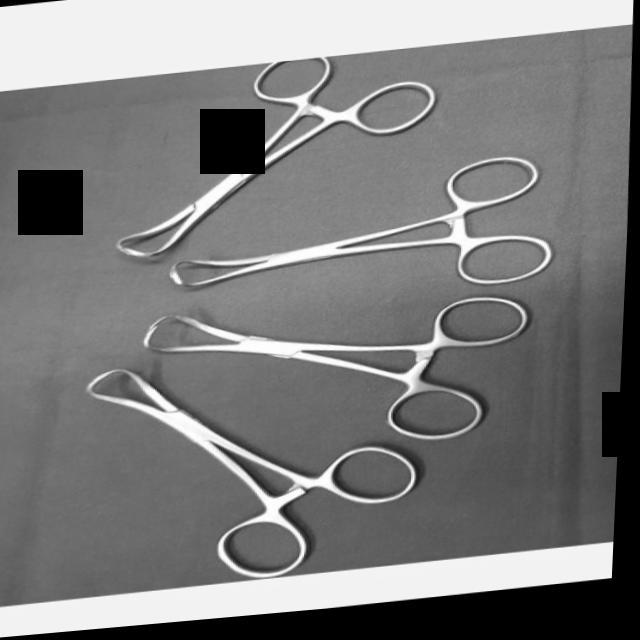Backhaus Towel Clamp: (80, 342, 434, 600), (137, 283, 542, 474), (100, 53, 444, 263), (164, 156, 566, 328)
